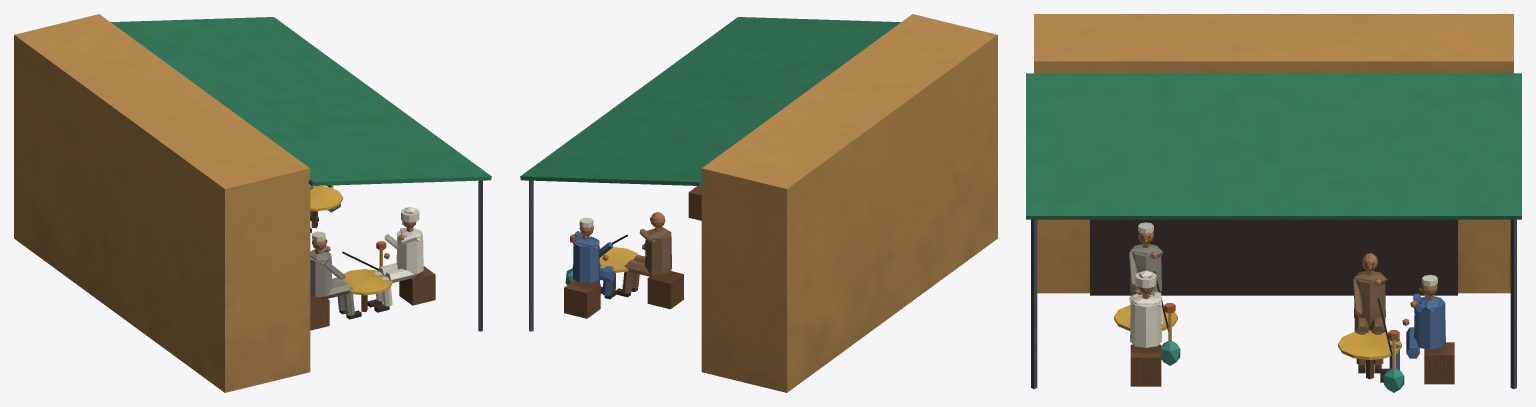
File: vattenpipscafe_tex.glb
The picture shows the model from 3 angles, left to right: view 1: azimuth 30°, elevation 25°; view 2: azimuth 150°, elevation 25°; view 3: azimuth 270°, elevation 25°; orthographic projection. The views are drawn at different scales.
Parts seen in each view (by area): view 1: vattenpipscafe; view 2: vattenpipscafe; view 3: vattenpipscafe.
Boxes of the visible parts, left/top/right/bottom form: vattenpipscafe: left=14, top=14, right=491, bottom=392; vattenpipscafe: left=520, top=14, right=997, bottom=392; vattenpipscafe: left=1026, top=14, right=1521, bottom=392.
Size of the model in its own units: 4.48 by 3.2 by 6.2.
Materials: 16 (10 with a texture image).
